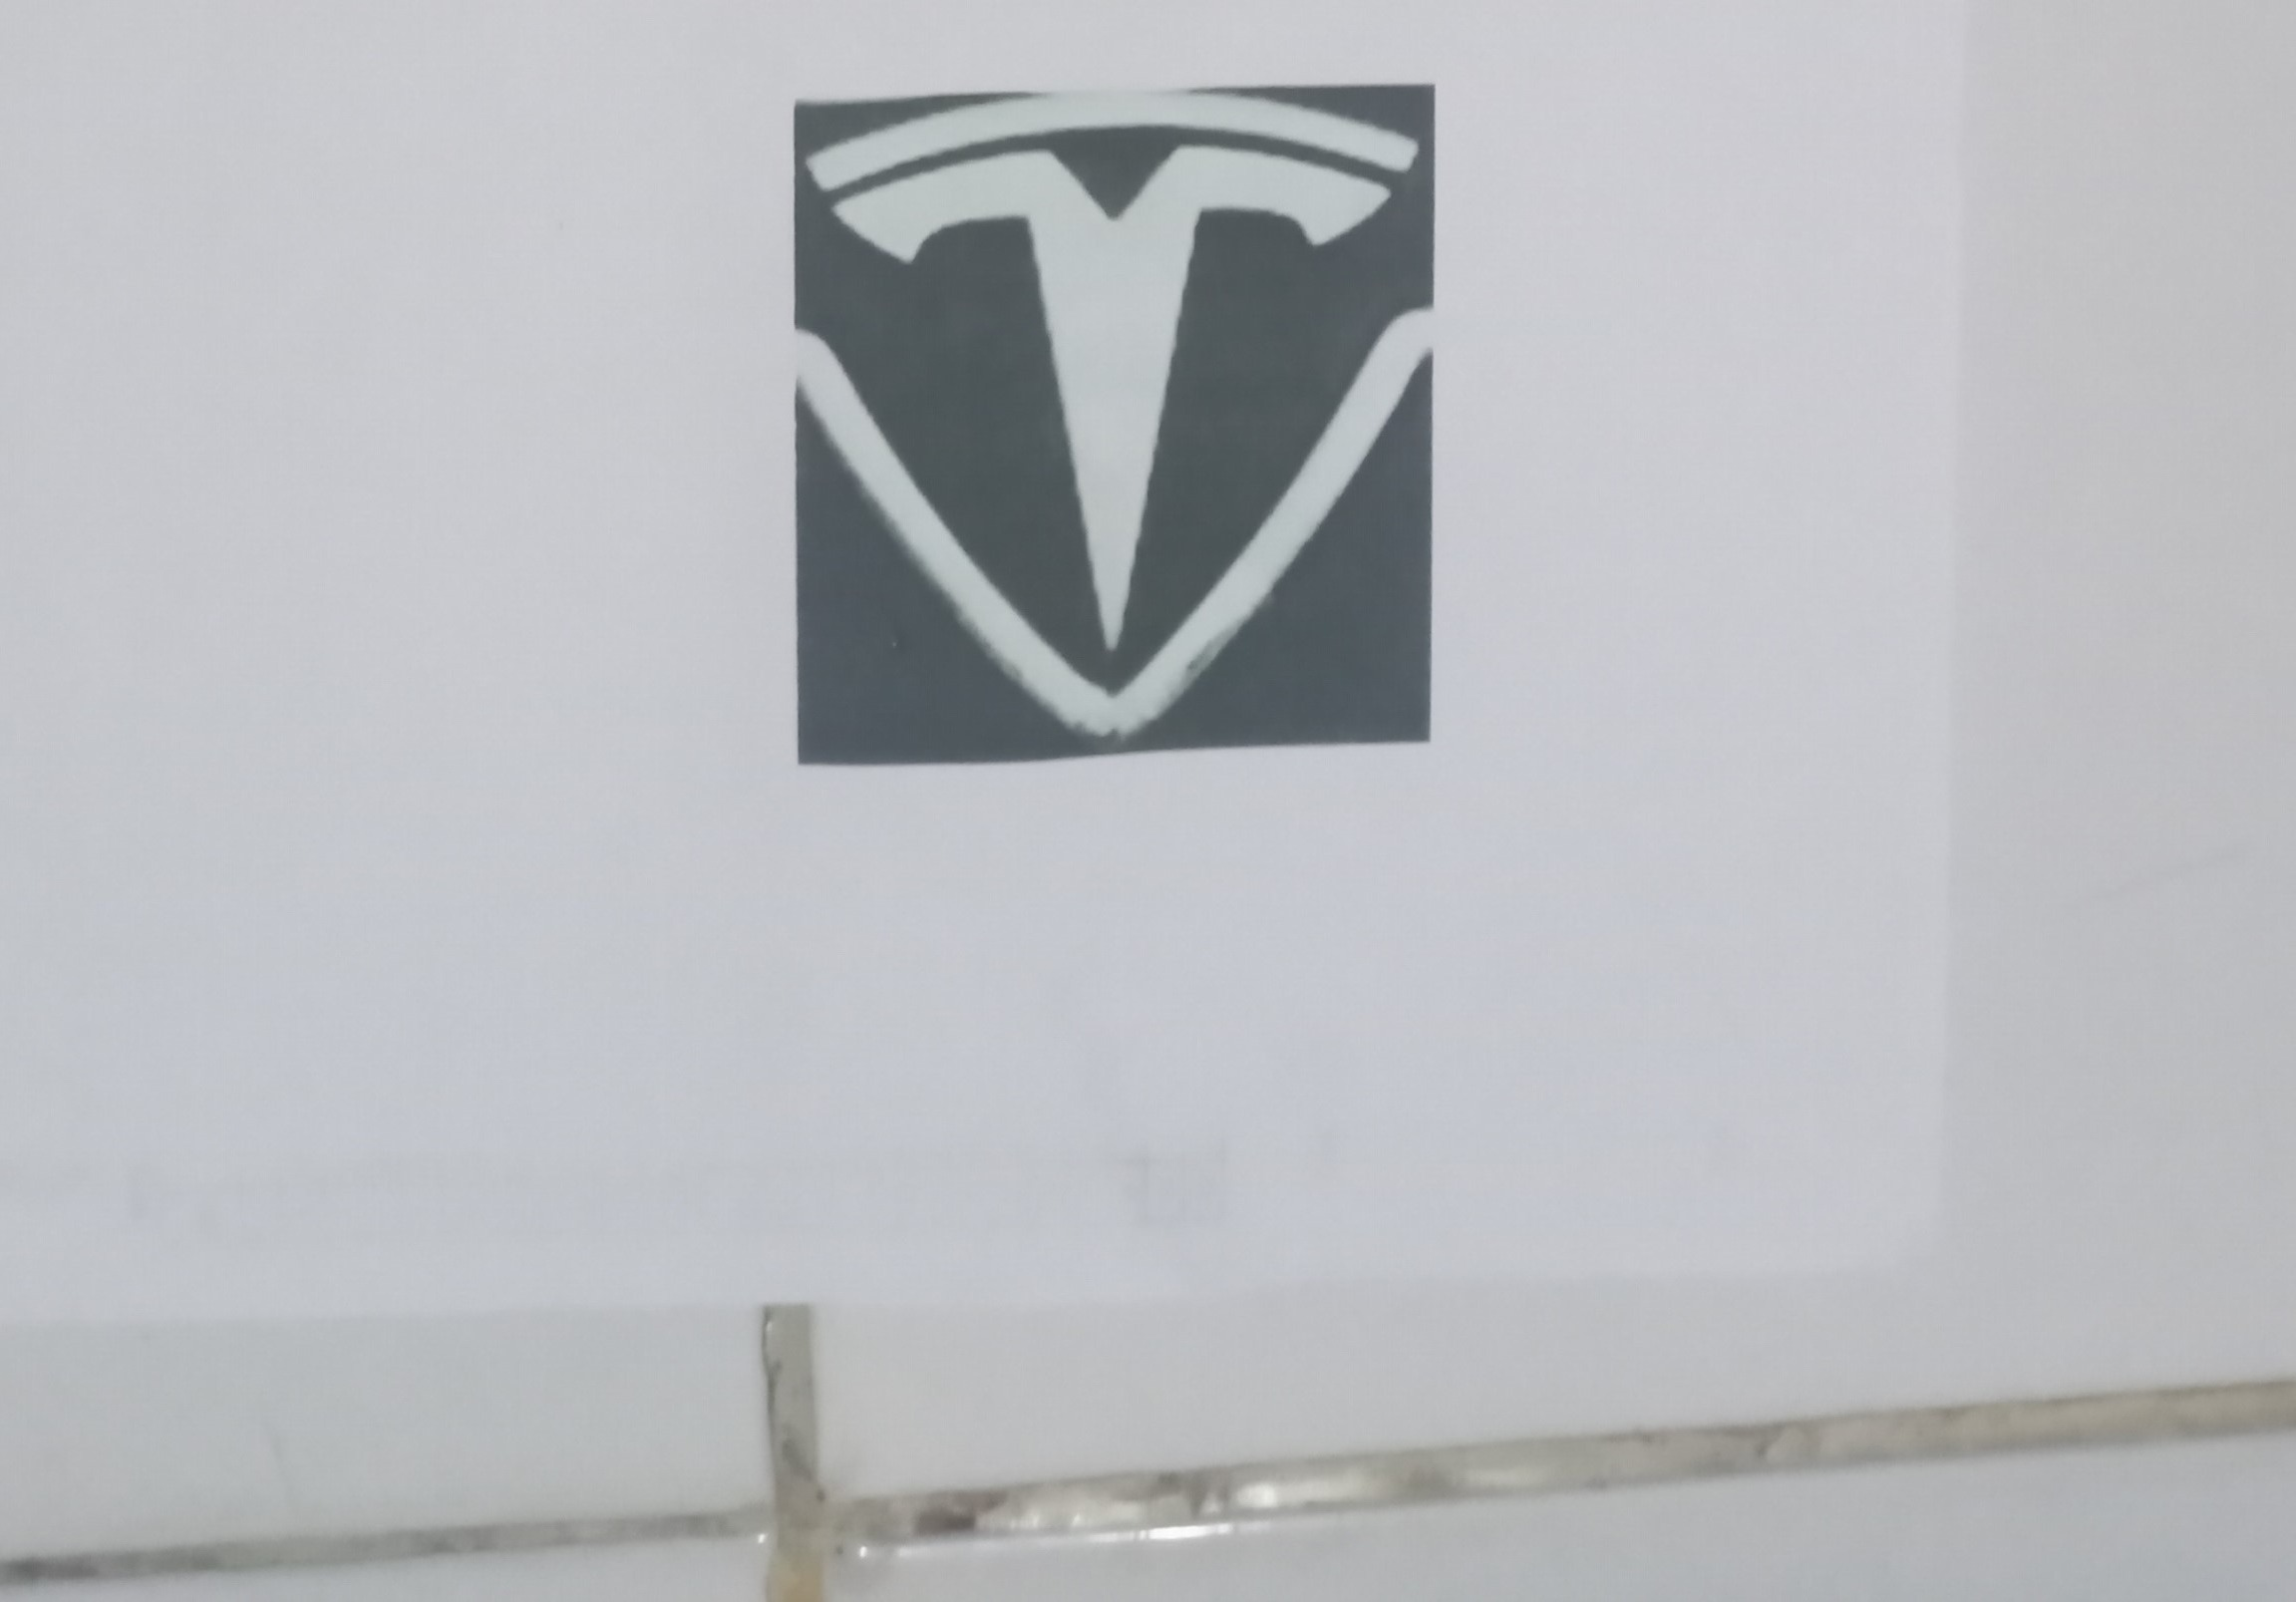Tesla: (785, 99, 1432, 745)
